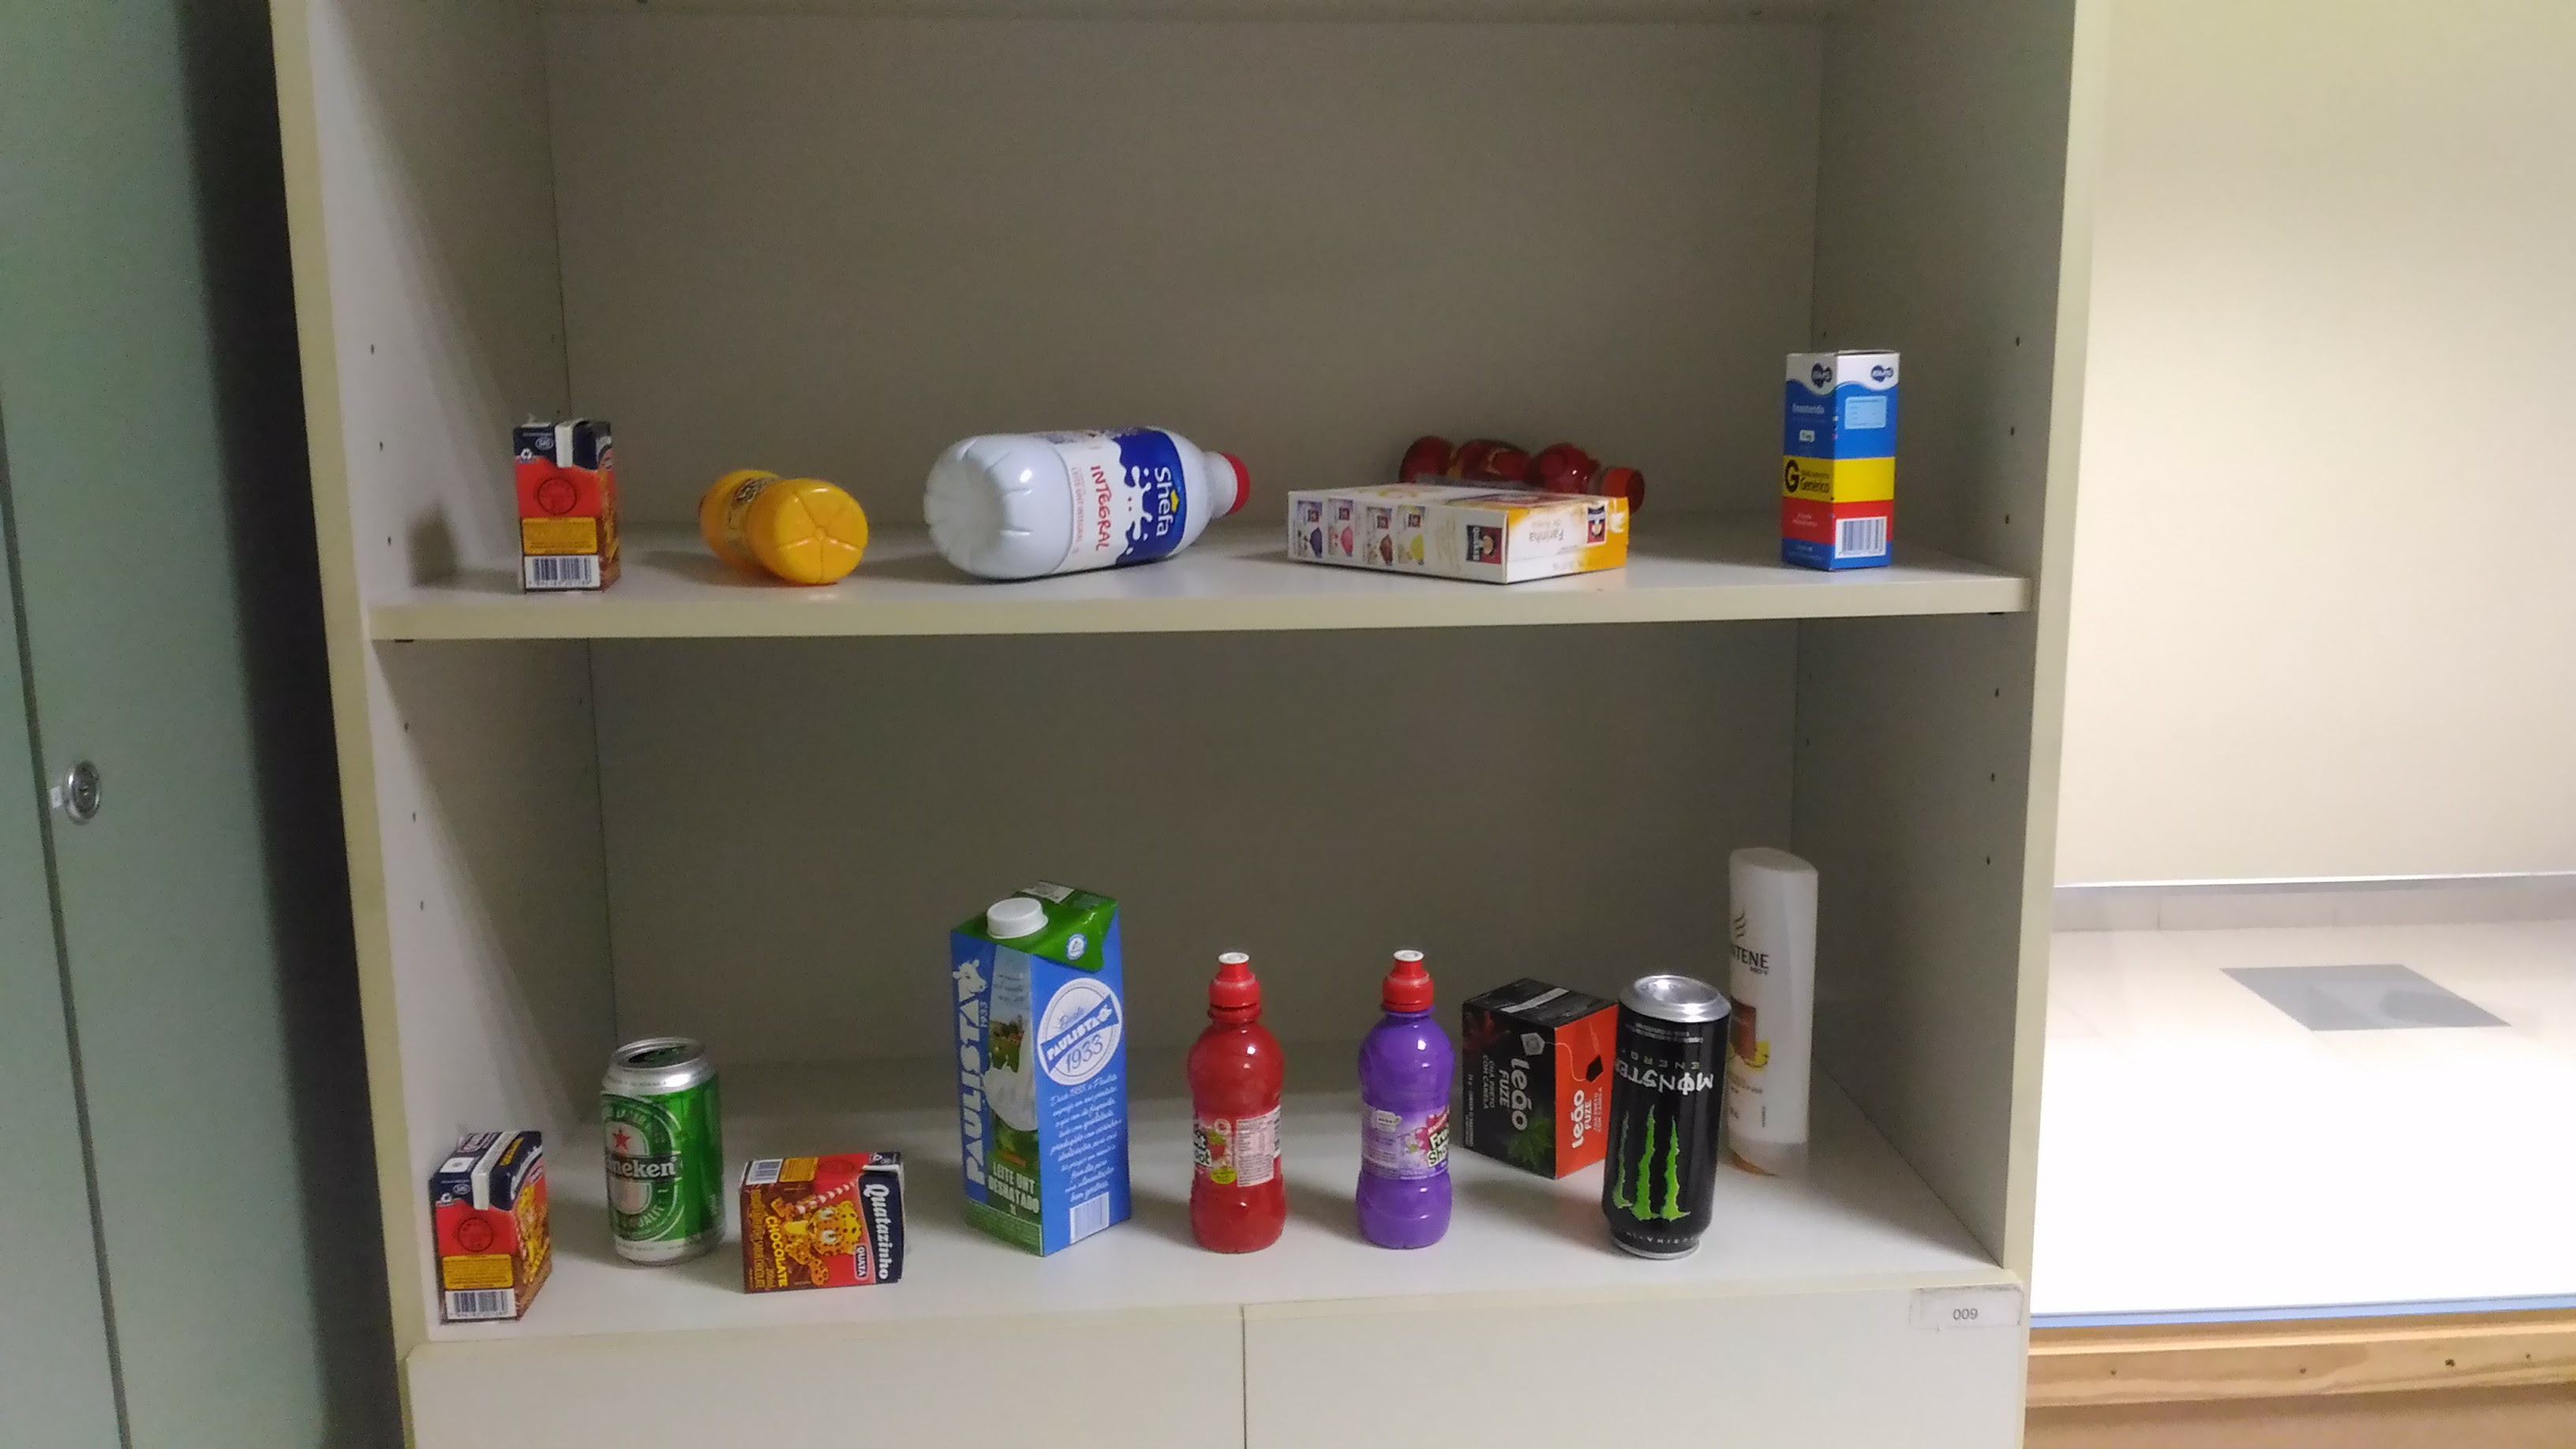cereal: (1279, 476, 1649, 600)
chocolate_milk: (732, 1138, 918, 1304), (425, 1118, 561, 1338), (501, 396, 628, 602)
heineken: (593, 1028, 727, 1276)
medicine: (1773, 334, 1911, 582)
milk_bottle: (915, 416, 1263, 591)
milk_box: (941, 867, 1138, 1258)
monster: (1589, 966, 1744, 1270)
purple_juice: (1346, 936, 1463, 1256)
red_juice: (1180, 939, 1290, 1253)
shampoo: (1711, 835, 1835, 1154)
tea_box: (1463, 968, 1615, 1185)
yellow_juice: (688, 462, 876, 600)
